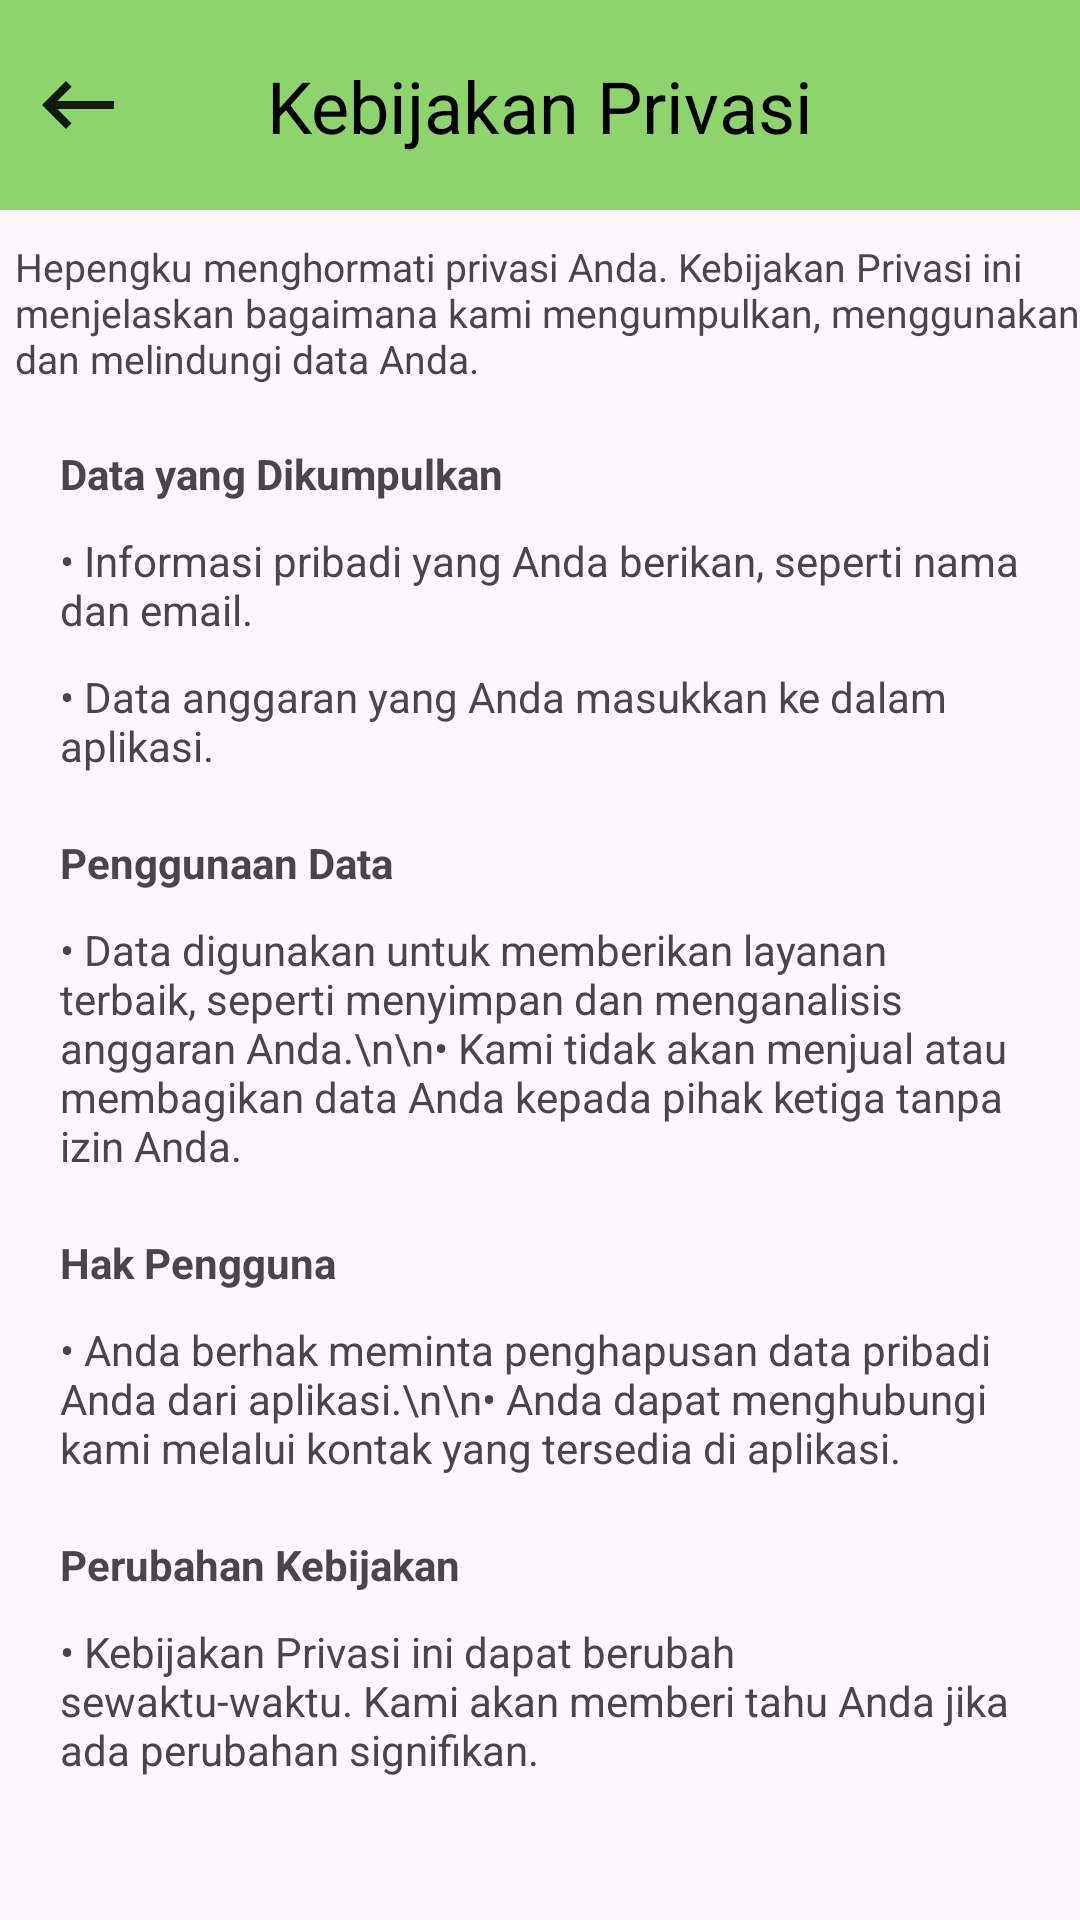

Named icons in this screenshot (1080 x 1920) and their bounding boxes, (x1, y1, x2, y2):
Tombol Kembali: (42, 81, 114, 129)
